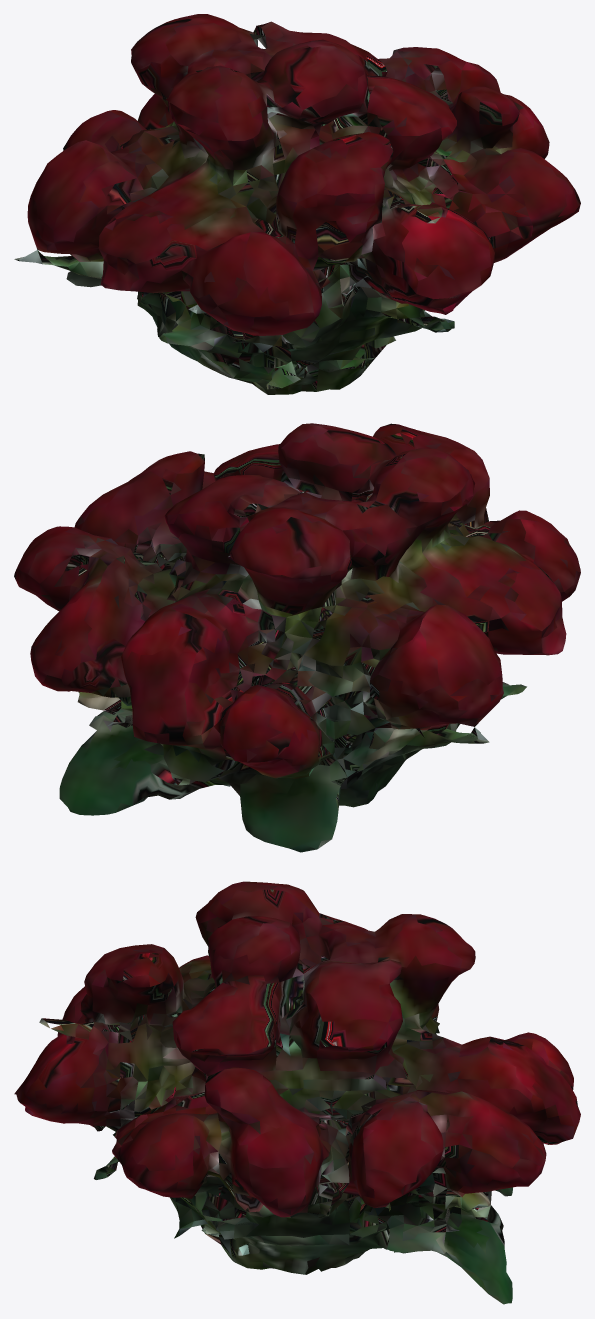
3 views of the same model, one above another, from view 1: azimuth 30°, elevation 25°; view 2: azimuth 150°, elevation 25°; view 3: azimuth 270°, elevation 25° (orthographic).
Parts seen in each view (by area): view 1: 03496737; view 2: 03496737; view 3: 03496737.
Boxes of the visible parts, x1=… form: 03496737: x1=14, y1=14, x2=580, y2=394; 03496737: x1=14, y1=423, x2=580, y2=852; 03496737: x1=14, y1=881, x2=580, y2=1304.
Size of the model in its own units: 0.1387 by 0.093 by 0.1452.
Materials: 1 (1 with a texture image).
